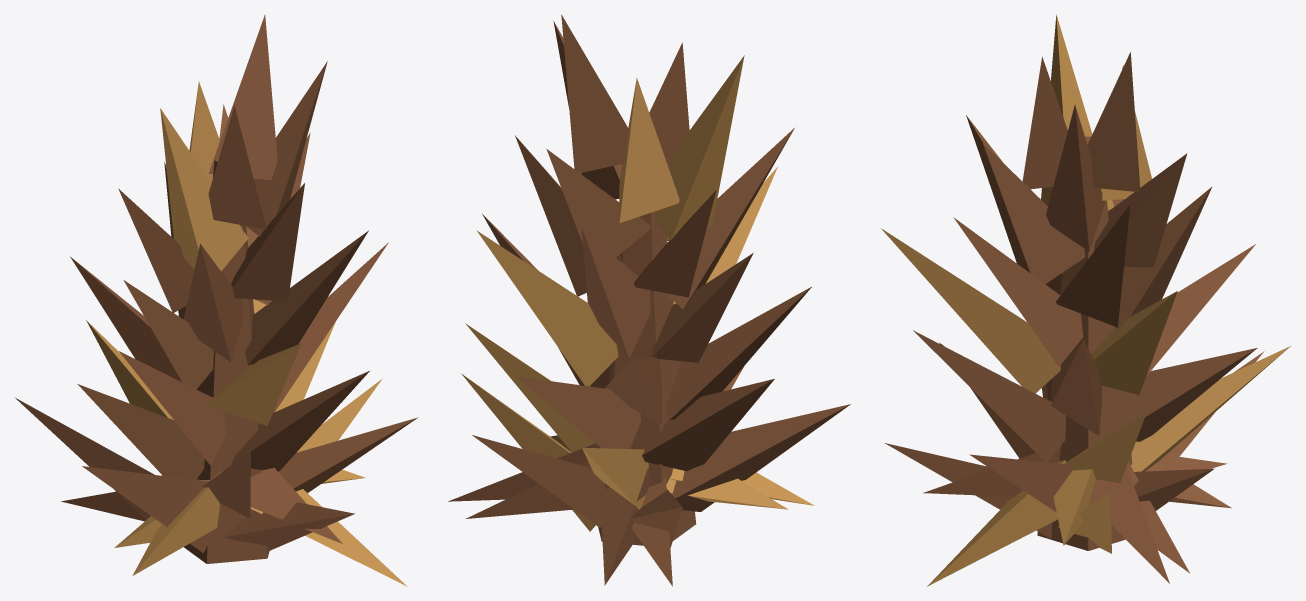
The model's file is dry_shrub_mid.glb.
3 views of the same model, side by side, from view 1: azimuth 30°, elevation 25°; view 2: azimuth 150°, elevation 25°; view 3: azimuth 270°, elevation 25° (orthographic). The views are drawn at different scales.
Visible parts, largest first — view 1: dry_shrub_mid; view 2: dry_shrub_mid; view 3: dry_shrub_mid.
Part boxes in pixels (x1,y1,x2,y2): dry_shrub_mid: (15,14,418,586); dry_shrub_mid: (448,14,850,586); dry_shrub_mid: (881,14,1290,586).
Size of the model in its own units: 0.4299 by 0.6138 by 0.4444.
